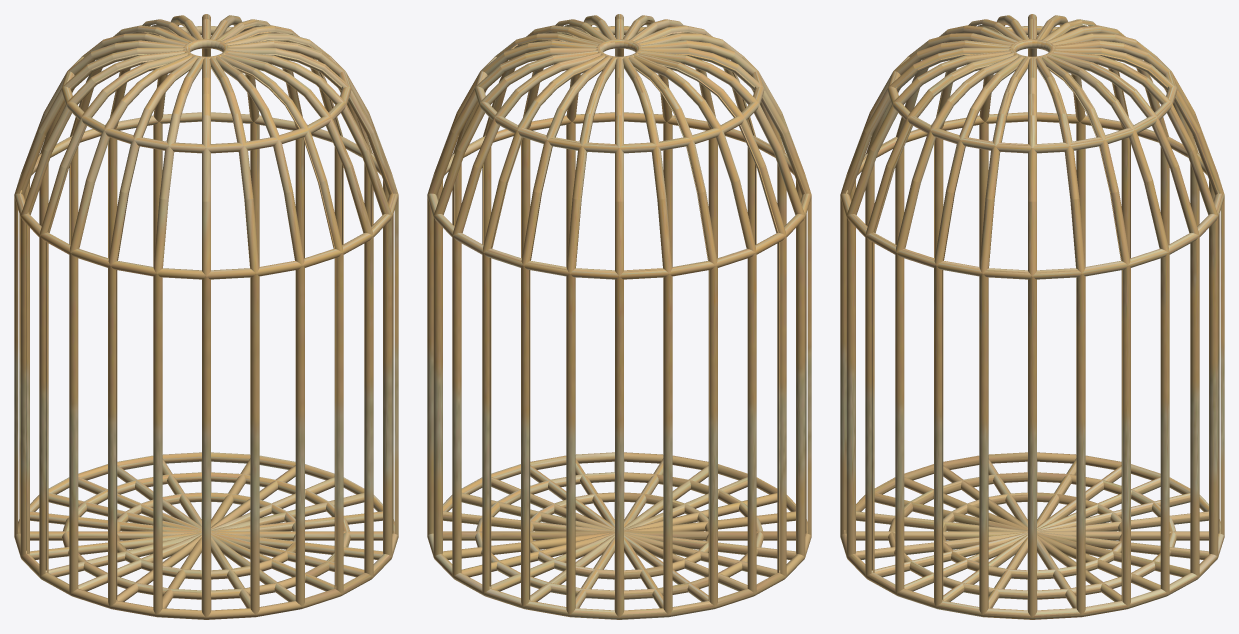
File: Birdcage.FBX
3 renders of one model, left to right at view 1: azimuth 30°, elevation 25°; view 2: azimuth 150°, elevation 25°; view 3: azimuth 270°, elevation 25°, orthographic.
Parts seen in each view (by area): view 1: Mesh1; view 2: Mesh1; view 3: Mesh1.
Boxes of the visible parts, x1,y1,x2,y2 form: Mesh1: (14,14,398,619); Mesh1: (427,14,811,619); Mesh1: (840,14,1224,619).
Bounding box in the file's own units: 60.15 × 84.9 × 60.15.
Materials: 1 (1 with a texture image).
